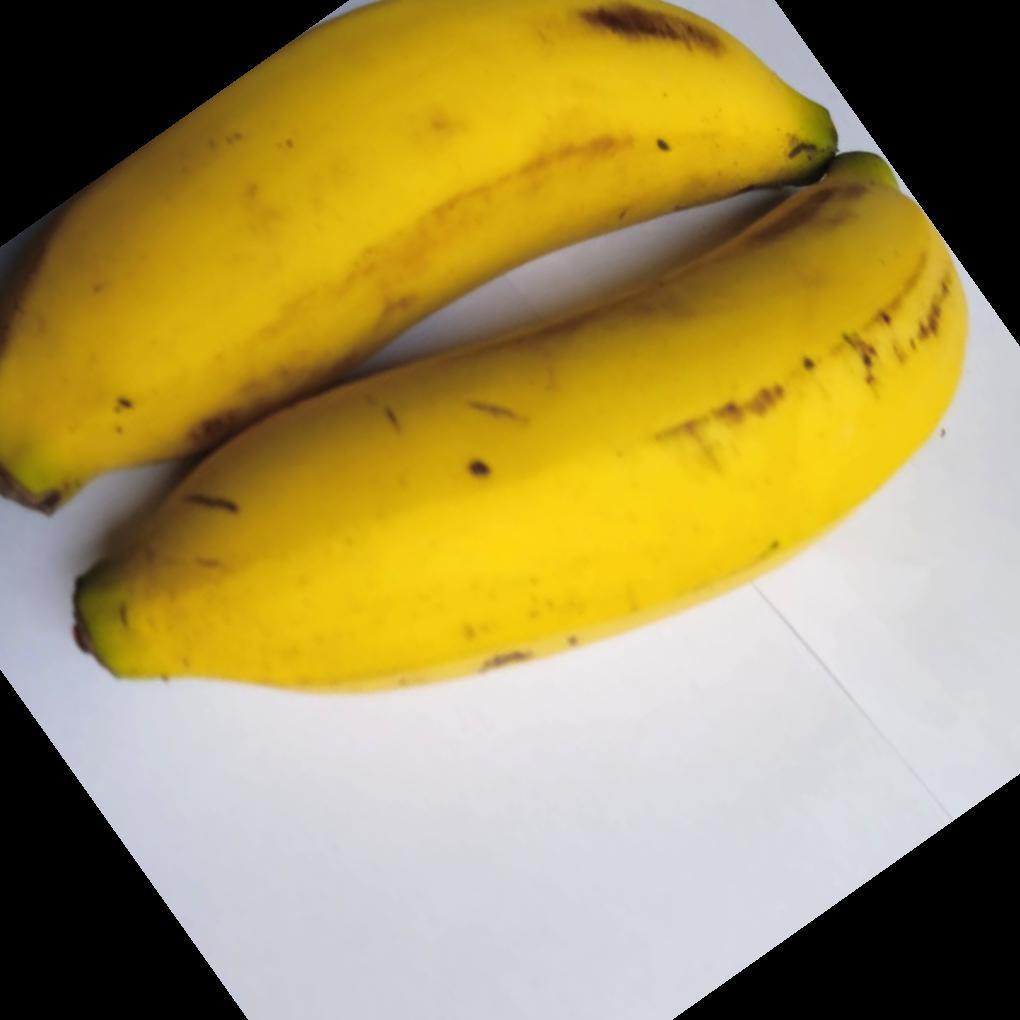Banana Ripe: (58, 139, 1020, 814), (7, 0, 925, 551)
